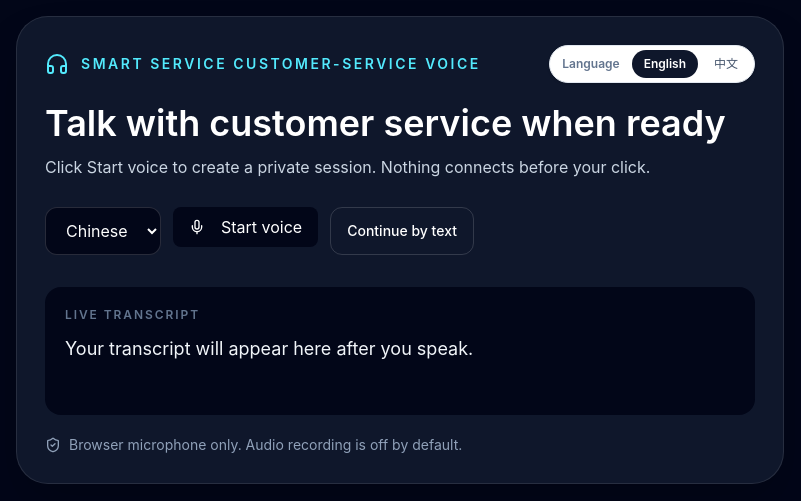
VoiceExperience › shows a friendly text fallback when microphone access is denied
This screenshot has width=801, height=501.
Click the button "Start voice": (246, 227) [173,207,318,247]
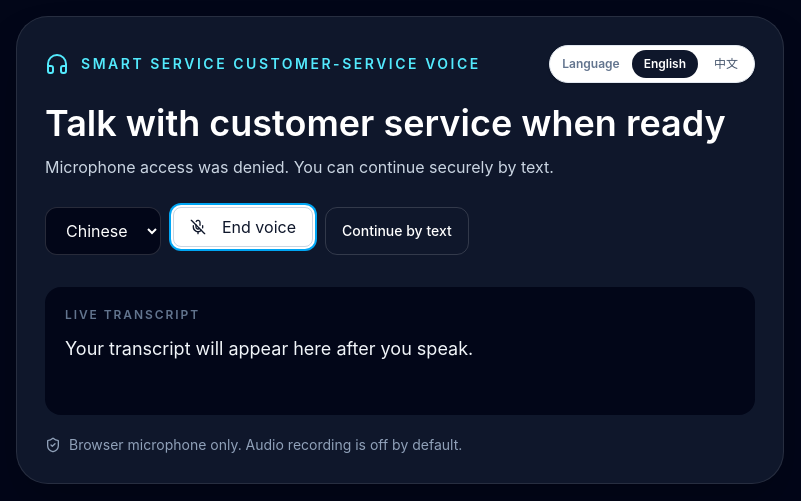
Check: the text "Microphone access was denied. You can continue securely by text." is shown, box [45,157,554,177]
